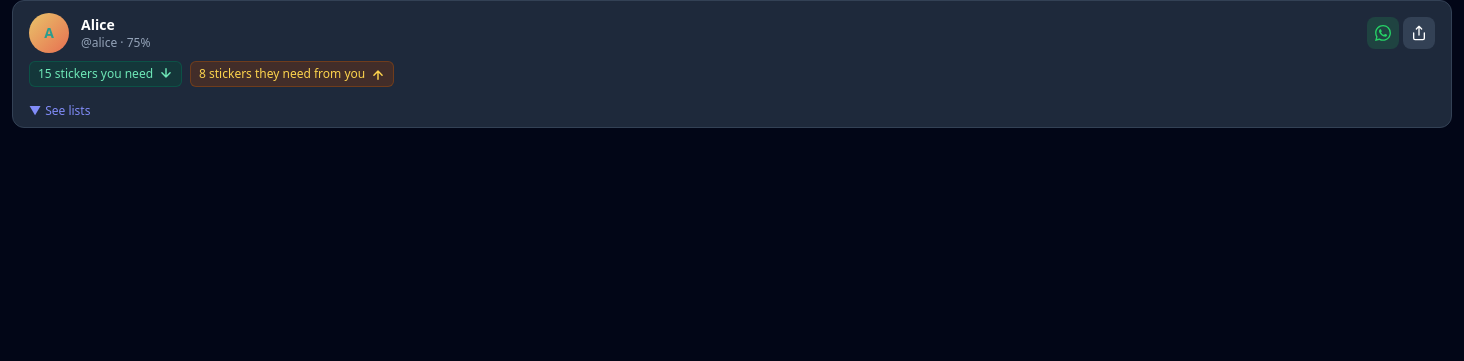
Test case: TradePartnerCard › expands to show sticker lists grouped by team
Click the button "▼ See lists". click: (68, 110)
box: [13, 95, 1451, 127]
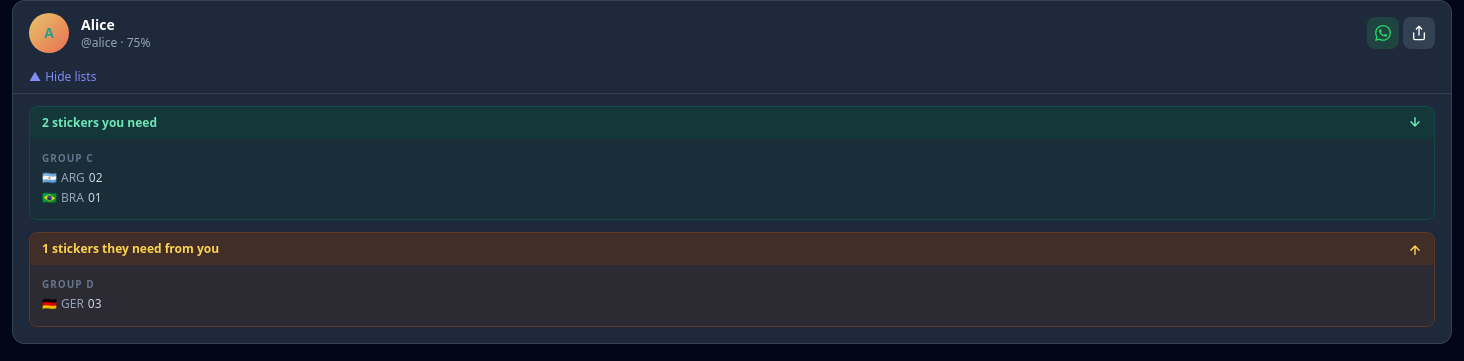
Now the text "BRA" is shown, box [61, 188, 84, 206]
Now the text "ARG" is shown, box [61, 169, 85, 186]
